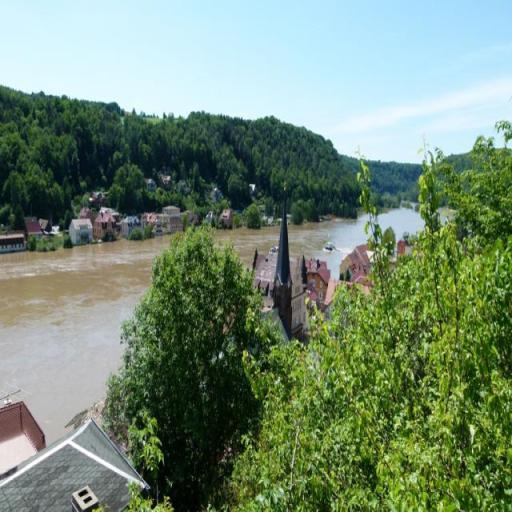flood: (0, 237, 169, 443), (291, 215, 366, 276), (216, 226, 279, 266), (382, 208, 423, 236)
house: (0, 418, 150, 511), (254, 248, 308, 336), (0, 400, 46, 465), (338, 244, 372, 287), (148, 206, 185, 233), (310, 257, 331, 300), (68, 218, 94, 244), (0, 229, 26, 253), (95, 213, 118, 240), (26, 220, 43, 238), (123, 216, 143, 231), (222, 208, 234, 226)
